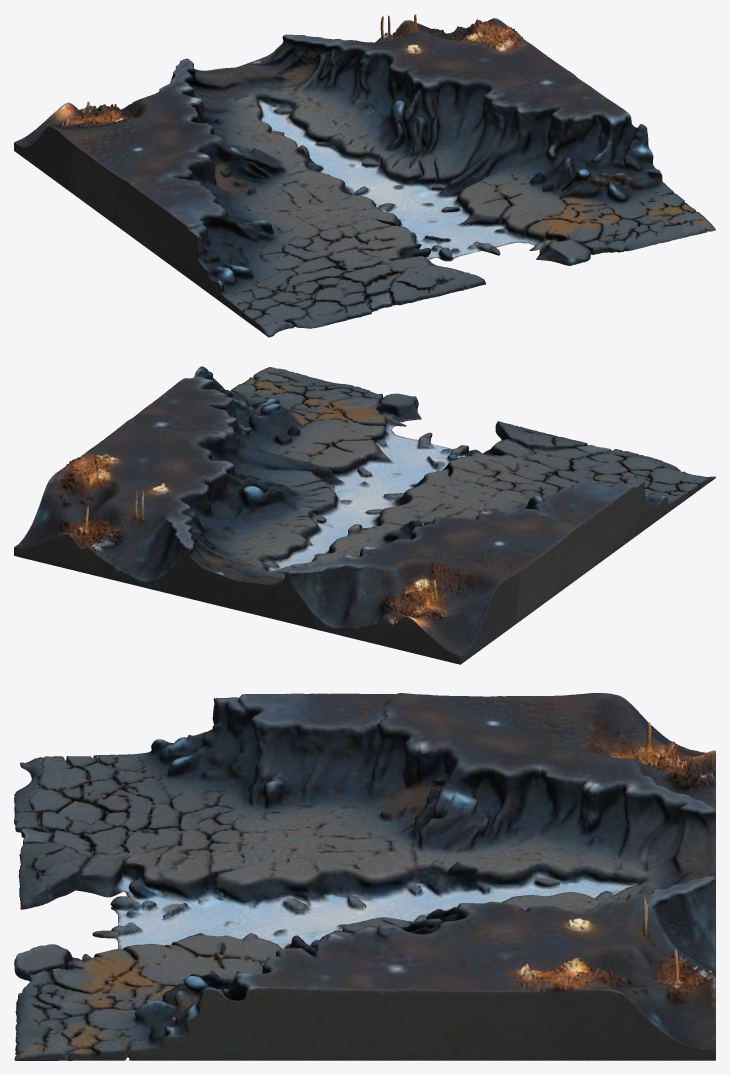
Rendered from Riverbed Battlemap 1_final.glb.
3 views of the same model, one above another, from view 1: azimuth 30°, elevation 25°; view 2: azimuth 150°, elevation 25°; view 3: azimuth 270°, elevation 25° (orthographic). The views are drawn at different scales.
Bounding box in the file's own units: 1.9 × 0.2906 × 1.9.
1 material, 1 textured.
